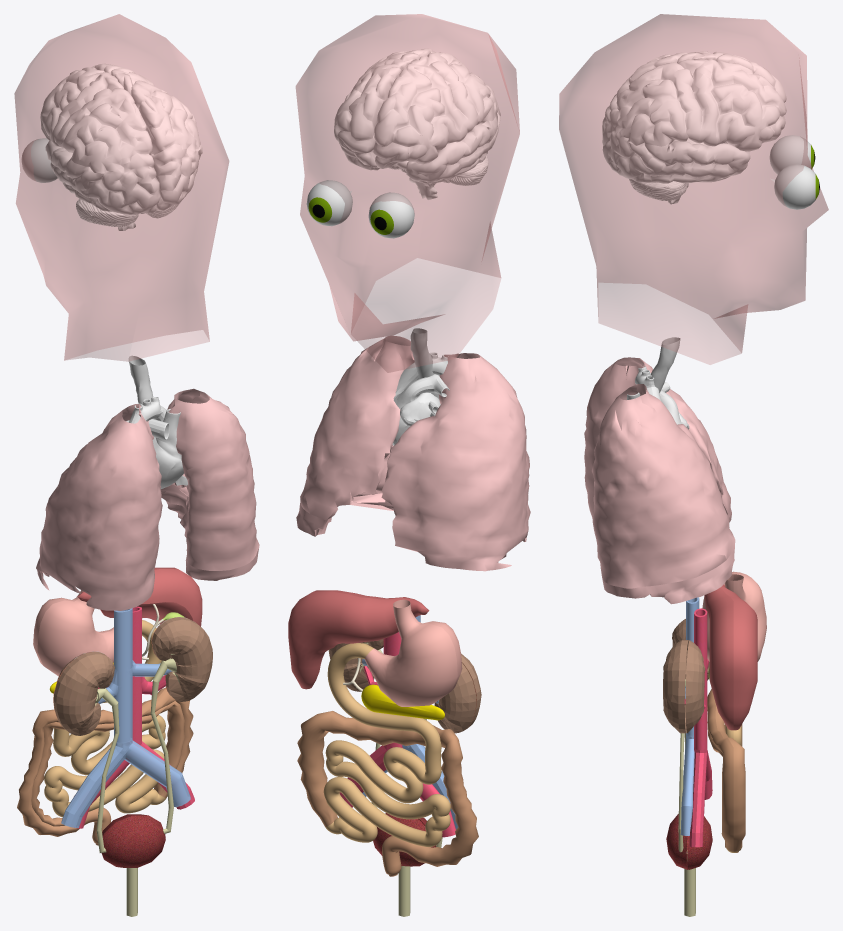
Rendered from Sistema cardiovascular, respiratorio, digestivo y urinario.glb.
The picture shows the model from 3 angles, left to right: view 1: azimuth 30°, elevation 25°; view 2: azimuth 150°, elevation 25°; view 3: azimuth 270°, elevation 25°; orthographic projection. The views are drawn at different scales.
Parts seen in each view (by area): view 1: 3DGeom-31, 3DGeom-54, 3DGeom-12, 3DGeom-32 (×2), 3DGeom-43, 3DGeom-11, 3DGeom-23, 3DGeom-24, 3DGeom-17, 3DGeom-10, 3DGeom-37, 3DGeom-25 (+9 smaller); view 2: 3DGeom-31, 3DGeom-54, 3DGeom-22, 3DGeom-10, 3DGeom-20, 3DGeom-18, 3DGeom-21, 3DGeom-16, 3DGeom-12, 3DGeom-29, 3DGeom-2 (×2), 3DGeom-32 (×2) (+9 smaller); view 3: 3DGeom-31, 3DGeom-54, 3DGeom-10, 3DGeom-12, 3DGeom-16, 3DGeom-25, 3DGeom-18, 3DGeom-42, 3DGeom-2 (×2), 3DGeom-32 (×2), 3DGeom-11, 3DGeom-24 (+9 smaller).
Part boxes in pixels (<box>): 3DGeom-31: <box>14,14,229,361</box>; 3DGeom-54: <box>36,388,259,610</box>; 3DGeom-12: <box>56,80,200,173</box>; 3DGeom-32 (×2): <box>56,619,212,735</box>; 3DGeom-43: <box>61,608,190,827</box>; 3DGeom-11: <box>81,144,202,214</box>; 3DGeom-23: <box>45,620,165,817</box>; 3DGeom-24: <box>18,689,193,845</box>; 3DGeom-17: <box>37,591,113,676</box>; 3DGeom-10: <box>40,63,154,146</box>; 3DGeom-37: <box>102,815,165,867</box>; 3DGeom-25: <box>77,569,202,626</box>; 3DGeom-31: <box>295,14,519,372</box>; 3DGeom-54: <box>296,335,530,571</box>; 3DGeom-22: <box>323,643,449,846</box>; 3DGeom-10: <box>334,52,473,168</box>; 3DGeom-20: <box>297,711,478,876</box>; 3DGeom-18: <box>288,591,429,689</box>; 3DGeom-21: <box>364,602,457,706</box>; 3DGeom-16: <box>339,113,497,183</box>; 3DGeom-12: <box>357,48,498,126</box>; 3DGeom-29: <box>392,352,449,445</box>; 3DGeom-2 (×2): <box>306,180,414,238</box>; 3DGeom-32 (×2): <box>328,639,476,733</box>; 3DGeom-31: <box>559,14,828,364</box>; 3DGeom-54: <box>584,357,735,604</box>; 3DGeom-10: <box>677,51,786,151</box>; 3DGeom-12: <box>616,52,702,146</box>; 3DGeom-16: <box>643,138,750,183</box>; 3DGeom-25: <box>704,588,733,730</box>; 3DGeom-18: <box>720,584,757,730</box>; 3DGeom-42: <box>684,608,712,847</box>; 3DGeom-2 (×2): <box>769,135,815,209</box>; 3DGeom-32 (×2): <box>663,640,705,733</box>; 3DGeom-11: <box>602,94,652,182</box>; 3DGeom-24: <box>707,689,733,851</box>.
Size of what is drawn, in the model's own units: 0.2063 by 0.8606 by 0.2387.
21 materials, 4 textured.
